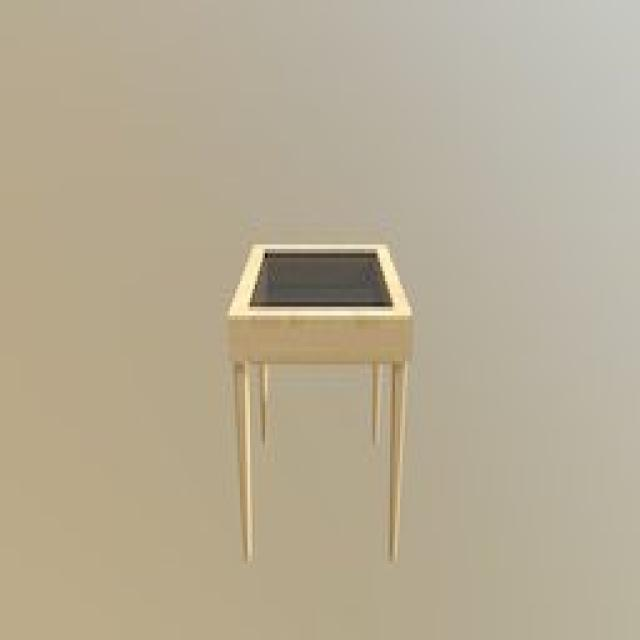table: (226, 242, 412, 562)
